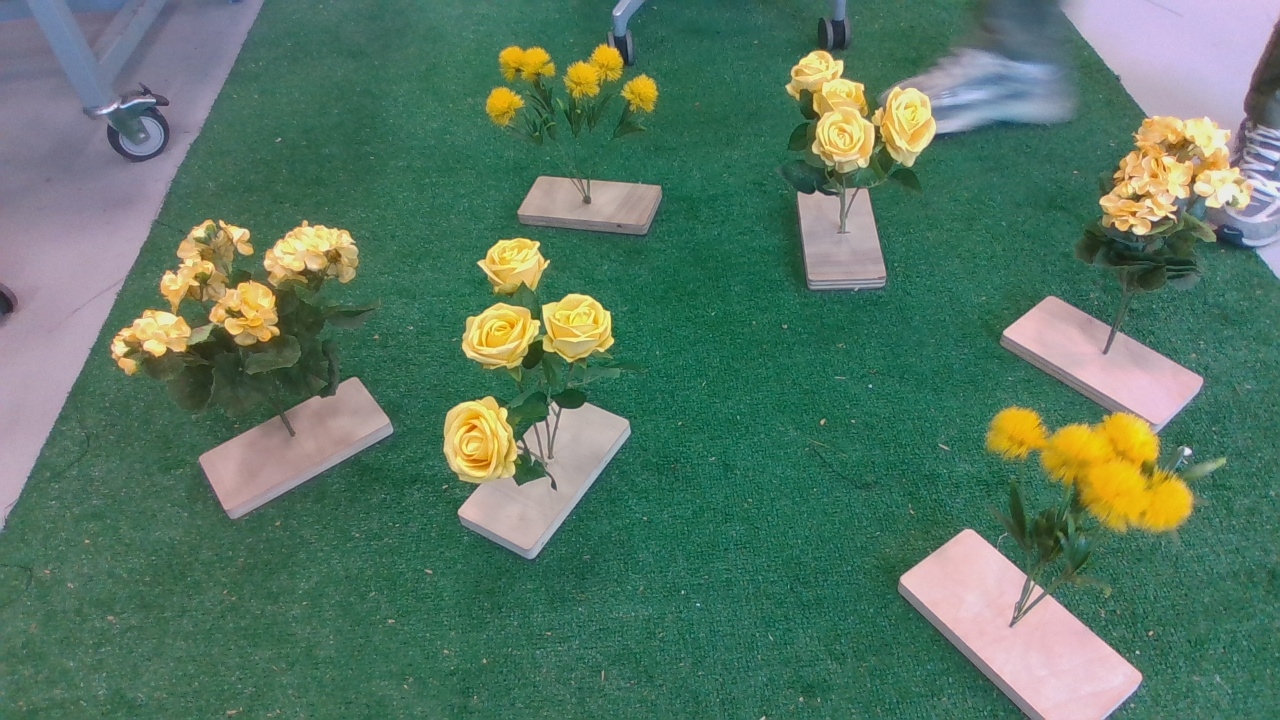dandelion: (975, 401, 1239, 560), (480, 34, 673, 152)
geranium: (113, 218, 387, 439), (1081, 117, 1258, 301)
rose: (431, 237, 643, 496), (773, 43, 949, 210)
